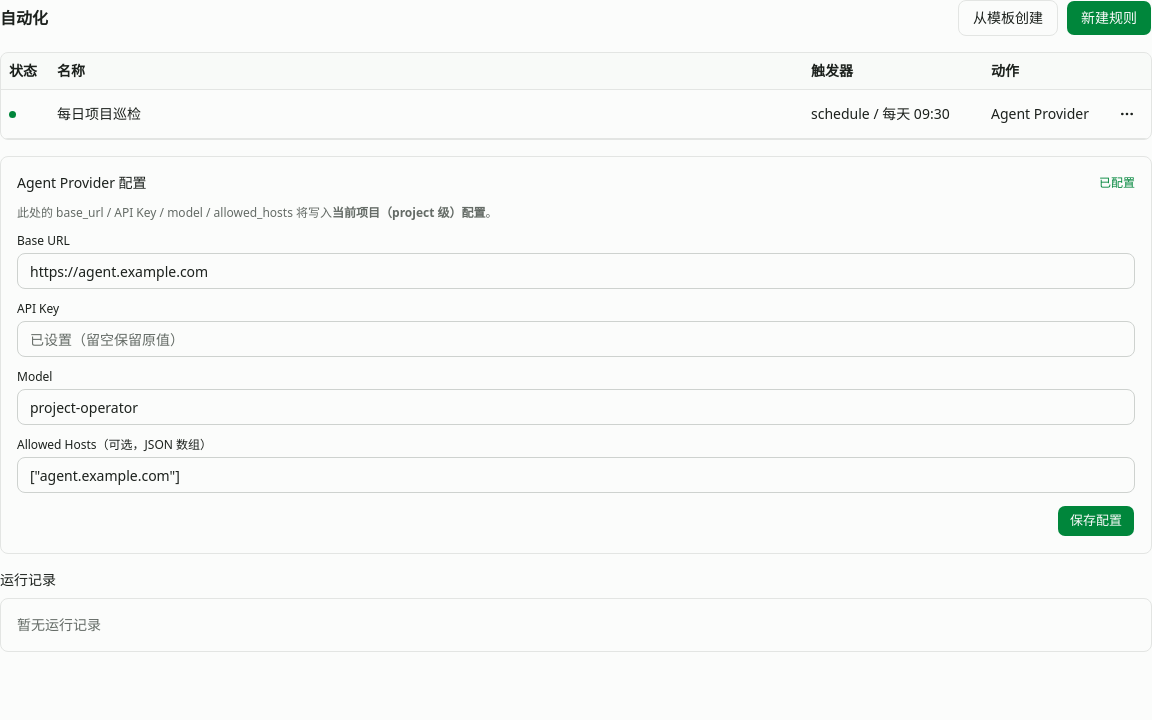
Scenario: ProjectAutomationsPage › debug dialog shows response when delivery already succeeded
Check: the text "每日项目巡检" is shown, box top-left (57, 104), bottom-right (141, 123)
Click the button named "操作": (1127, 114) top-left (1111, 98), bottom-right (1143, 130)
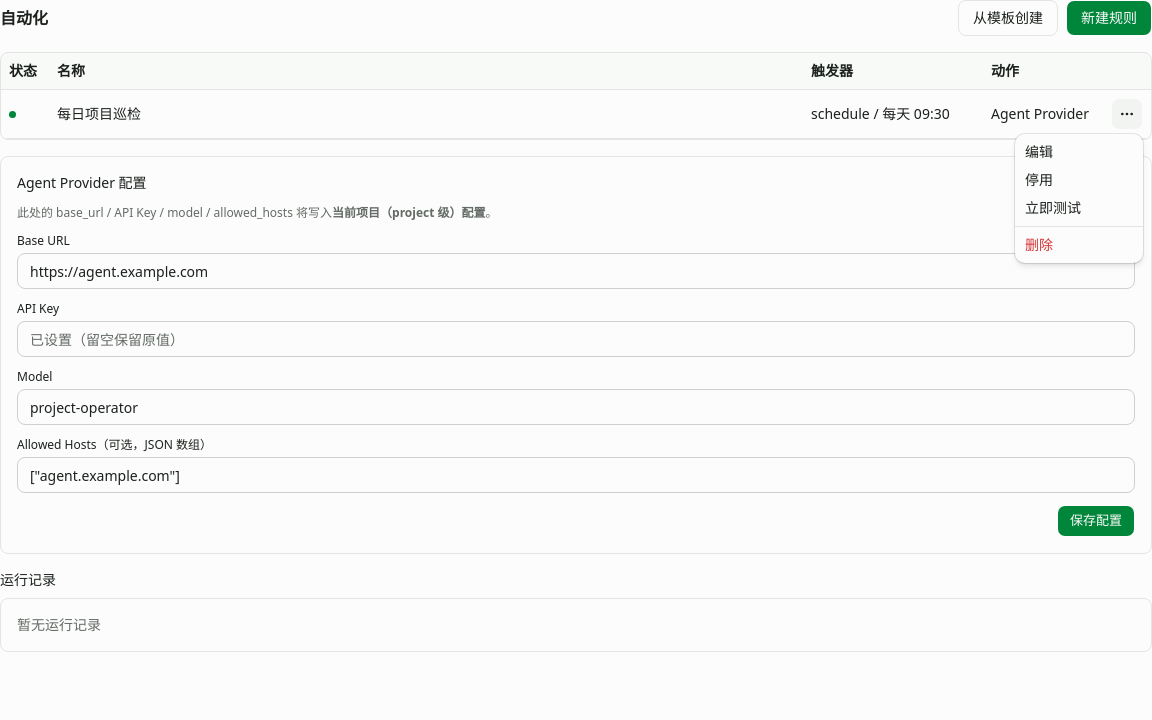
Click the menu item "立即测试": (1053, 208) top-left (1025, 198), bottom-right (1081, 217)
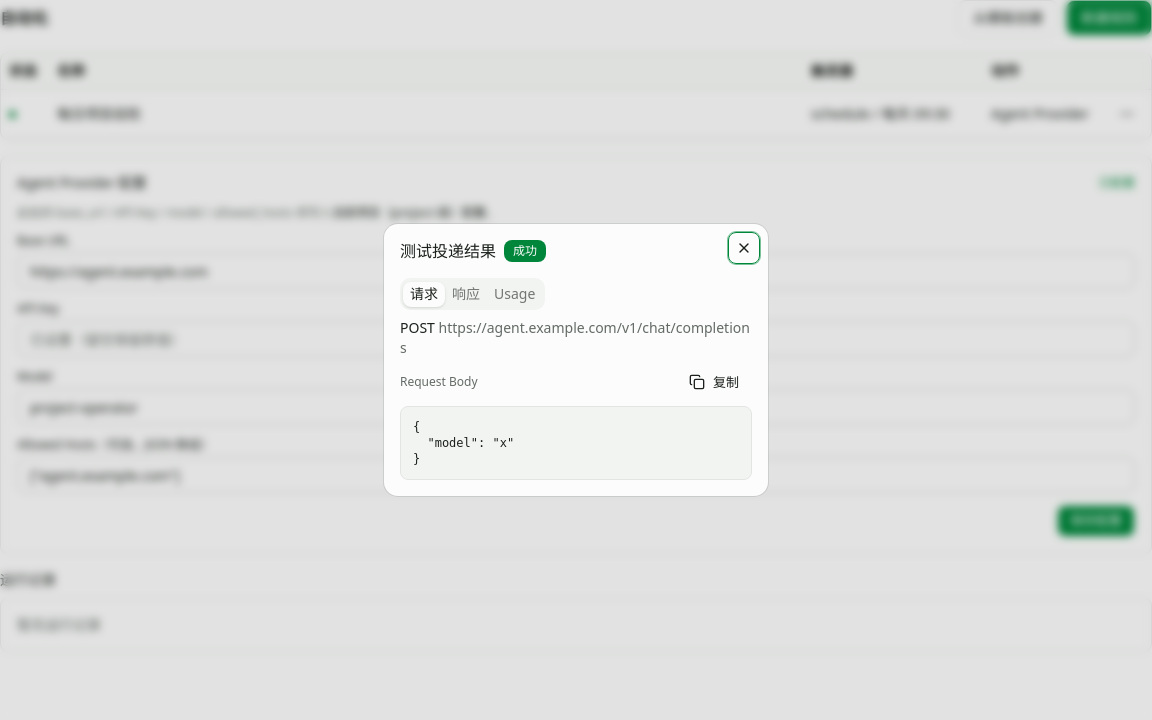
Check: the text "成功" is shown, box top-left (504, 240), bottom-right (546, 262)
Note: usage tab 展示 prompt_tokens。
Click the tab "Usage": (515, 294) top-left (487, 282), bottom-right (542, 306)
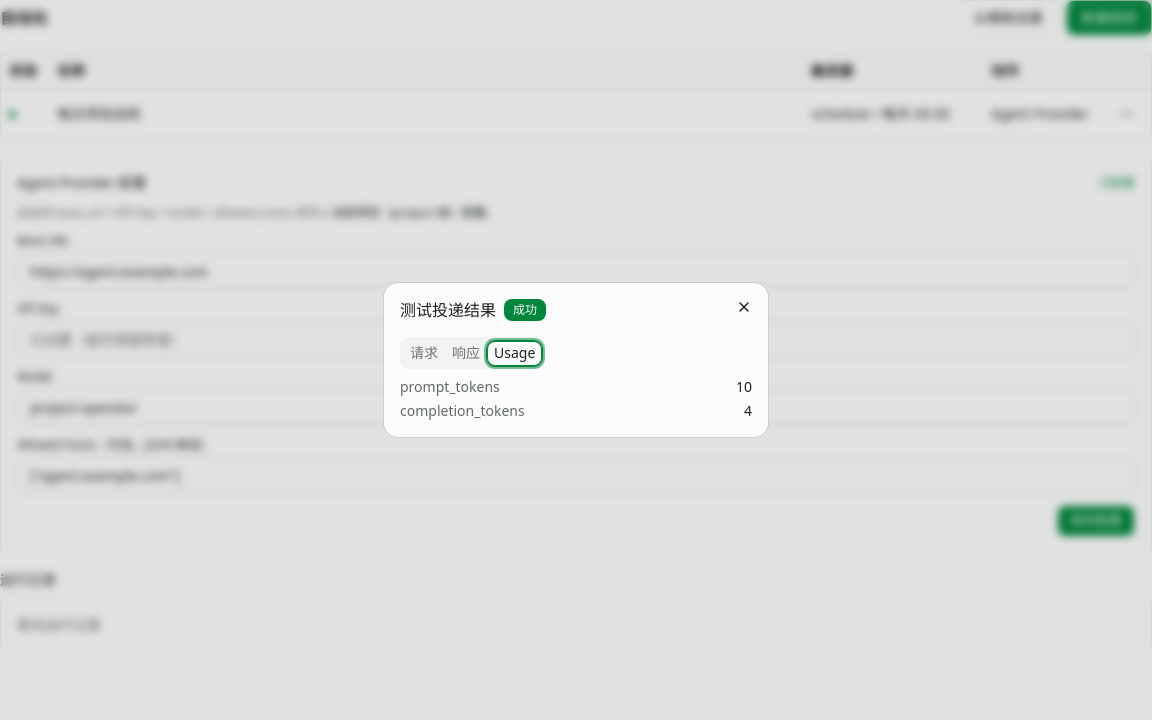
Check: the text "prompt_tokens" is shown, box top-left (400, 377), bottom-right (500, 397)
